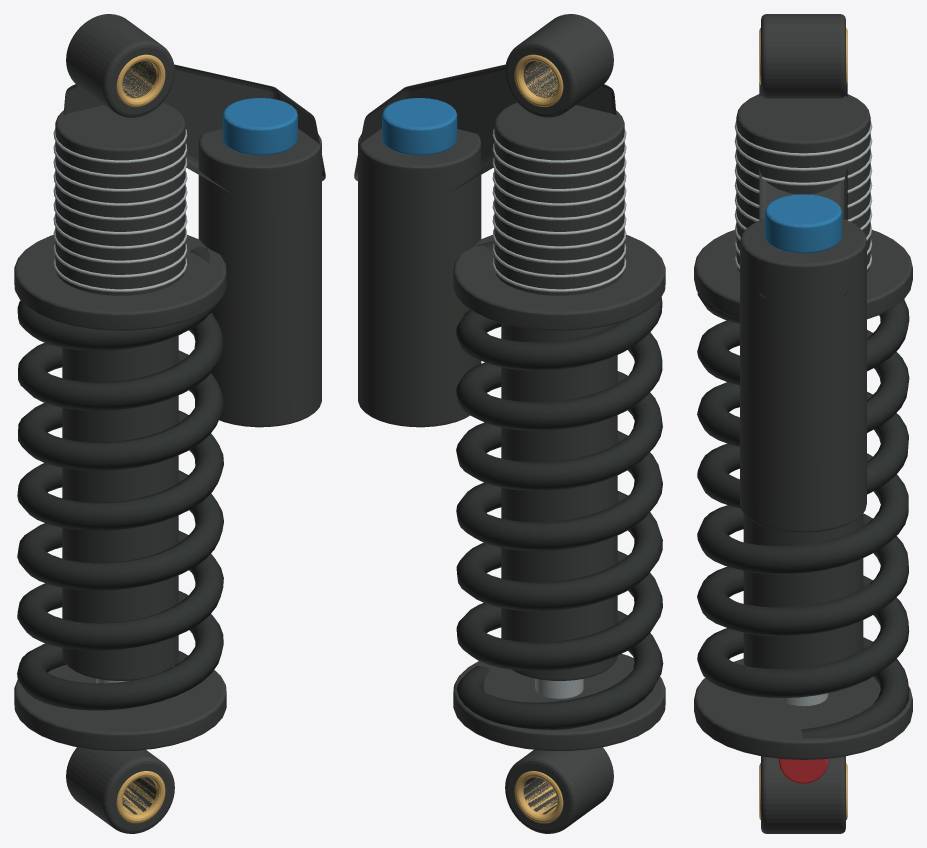
The model's file is marzocchi-bomber-cr--9eed9f1b.glb.
3 renders of one model, left to right at view 1: azimuth 30°, elevation 25°; view 2: azimuth 150°, elevation 25°; view 3: azimuth 270°, elevation 25°, orthographic. The views are drawn at different scales.
Parts seen in each view (by area): view 1: marzocchi-bomber-cr--9eed9f1b__link, marzocchi-bomber-cr--9eed9f1b__coil, marzocchi-bomber-cr--9eed9f1b__bolts, marzocchi-bomber-cr--9eed9f1b__adjuster, marzocchi-bomber-cr--9eed9f1b__stanchions; view 2: marzocchi-bomber-cr--9eed9f1b__link, marzocchi-bomber-cr--9eed9f1b__coil, marzocchi-bomber-cr--9eed9f1b__bolts, marzocchi-bomber-cr--9eed9f1b__adjuster, marzocchi-bomber-cr--9eed9f1b__stanchions; view 3: marzocchi-bomber-cr--9eed9f1b__link, marzocchi-bomber-cr--9eed9f1b__coil, marzocchi-bomber-cr--9eed9f1b__adjuster, marzocchi-bomber-cr--9eed9f1b__bolts, marzocchi-bomber-cr--9eed9f1b__rebound, marzocchi-bomber-cr--9eed9f1b__stanchions.
Part boxes in pixels (x1,y1,x2,y2): marzocchi-bomber-cr--9eed9f1b__link: (14, 14, 325, 833); marzocchi-bomber-cr--9eed9f1b__coil: (17, 246, 224, 710); marzocchi-bomber-cr--9eed9f1b__bolts: (53, 129, 187, 683); marzocchi-bomber-cr--9eed9f1b__adjuster: (222, 98, 297, 155); marzocchi-bomber-cr--9eed9f1b__stanchions: (116, 54, 165, 823); marzocchi-bomber-cr--9eed9f1b__link: (354, 14, 665, 833); marzocchi-bomber-cr--9eed9f1b__coil: (456, 240, 663, 729); marzocchi-bomber-cr--9eed9f1b__bolts: (492, 129, 626, 698); marzocchi-bomber-cr--9eed9f1b__adjuster: (382, 98, 457, 155); marzocchi-bomber-cr--9eed9f1b__stanchions: (514, 54, 563, 823); marzocchi-bomber-cr--9eed9f1b__link: (694, 14, 912, 833); marzocchi-bomber-cr--9eed9f1b__coil: (697, 292, 909, 738); marzocchi-bomber-cr--9eed9f1b__adjuster: (764, 194, 842, 253); marzocchi-bomber-cr--9eed9f1b__bolts: (734, 121, 872, 706); marzocchi-bomber-cr--9eed9f1b__rebound: (778, 758, 828, 783); marzocchi-bomber-cr--9eed9f1b__stanchions: (759, 28, 847, 819).
Size of the model in its own units: 0.096 by 0.254 by 0.062.
